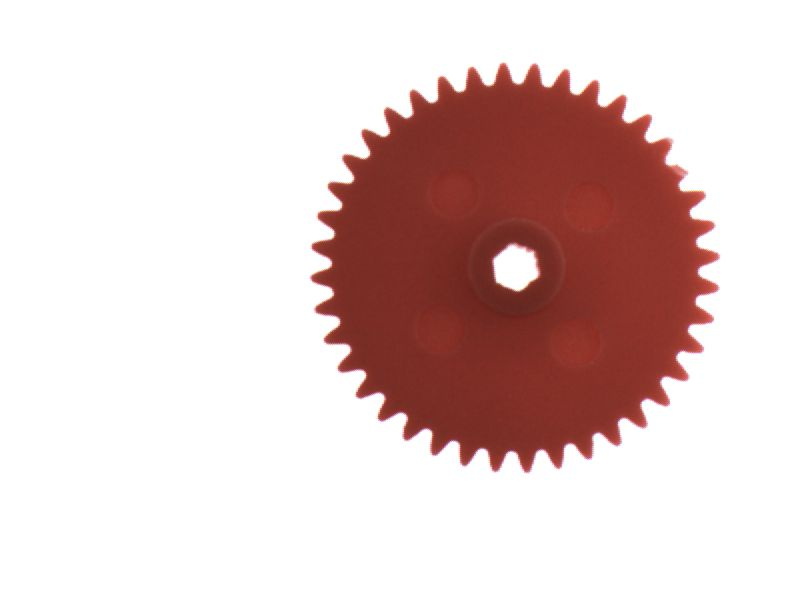defect_break: (645, 150, 707, 195)
